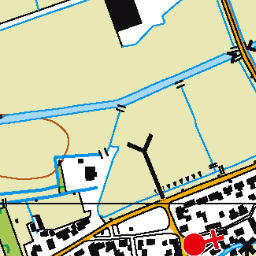church: (178, 225, 226, 256)
